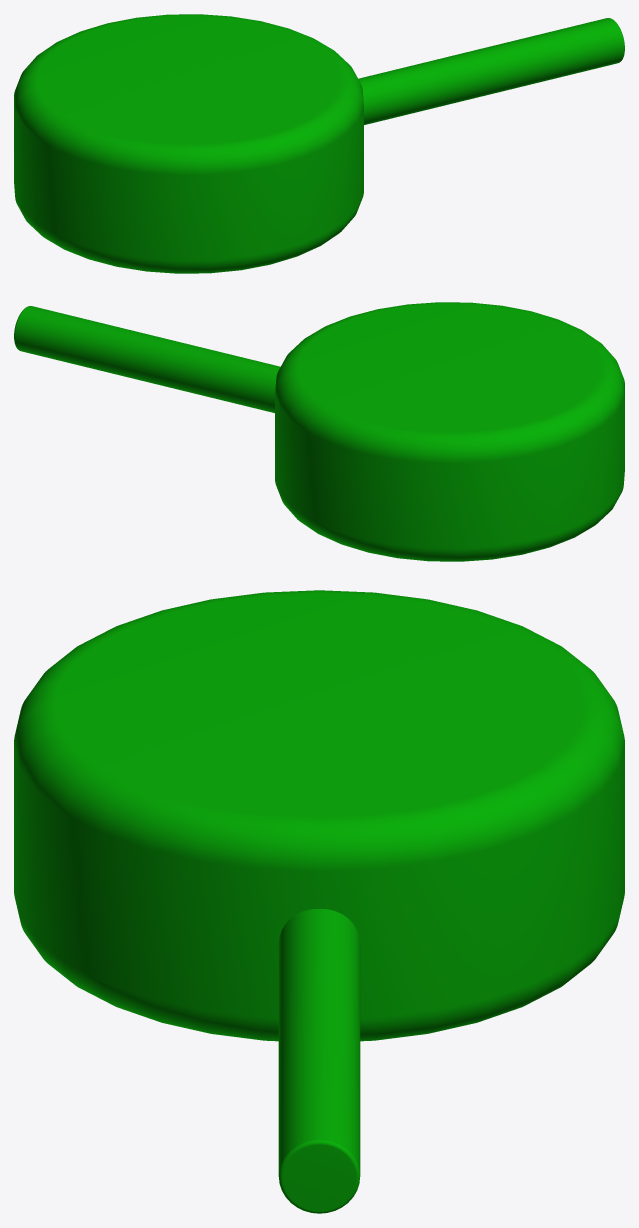
File: player_head.dae
3 renders of one model, top to bottom at view 1: azimuth 30°, elevation 25°; view 2: azimuth 150°, elevation 25°; view 3: azimuth 270°, elevation 25°, orthographic. The views are drawn at different scales.
Visible parts, largest first — view 1: PlayerHead, PlayerBarrel; view 2: PlayerHead, PlayerBarrel; view 3: PlayerHead, PlayerBarrel.
Part boxes in pixels (<box>): PlayerHead: <box>14,14,363,273</box>; PlayerBarrel: <box>358,18,624,124</box>; PlayerHead: <box>275,302,624,561</box>; PlayerBarrel: <box>14,306,280,412</box>; PlayerHead: <box>14,590,624,1041</box>; PlayerBarrel: <box>278,909,360,1213</box>.
Size of the model in its own units: 2.85 by 1.5 by 0.6.
